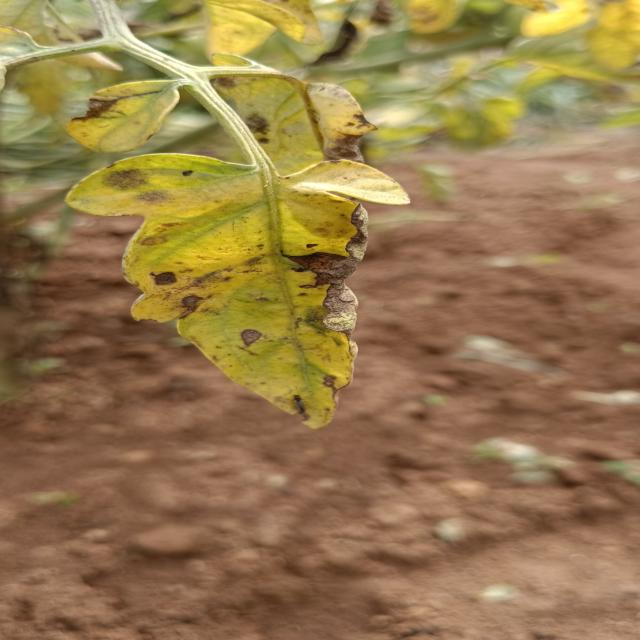tomato_early blight: (70, 152, 411, 428), (203, 55, 392, 182), (66, 77, 189, 150)
